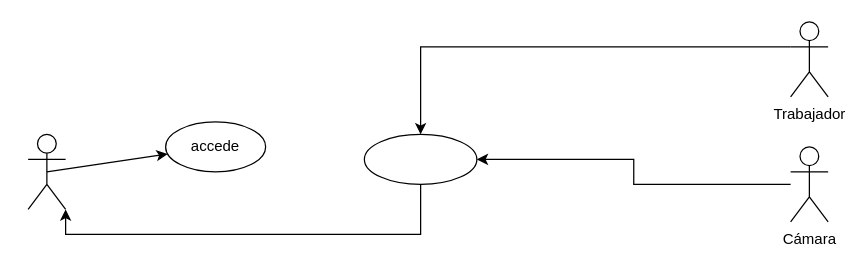
This 868x270 diagram has some shape labels left out. Each missing label, with the centre of its shape:
"Usuario" goes at (x=46, y=171).
"verificar" goes at (x=420, y=158).
